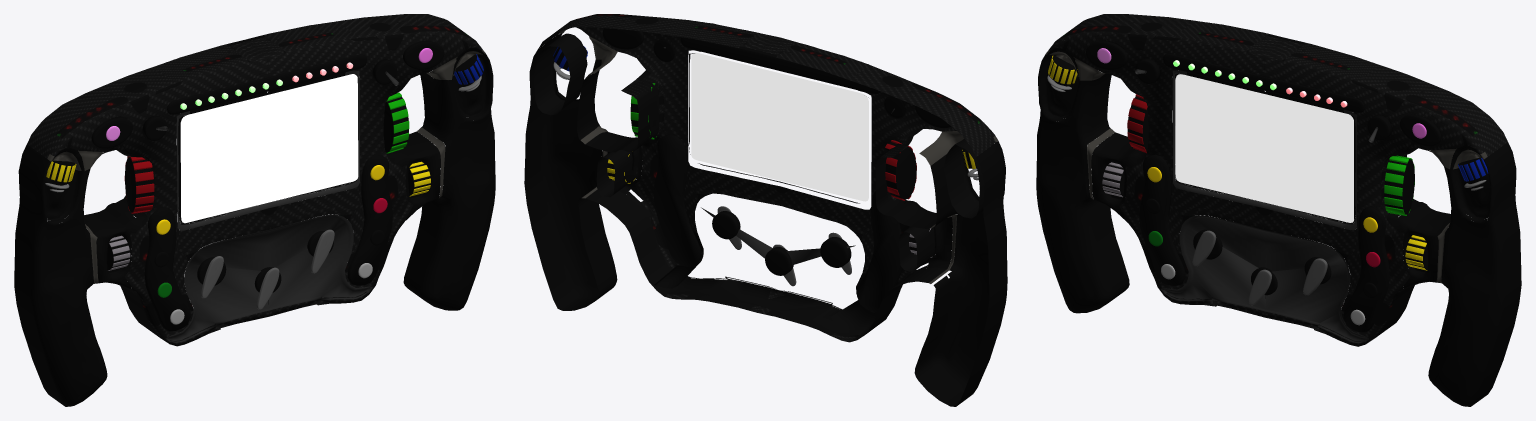
File: steer.glb
3 renders of one model, left to right at view 1: azimuth 30°, elevation 25°; view 2: azimuth 150°, elevation 25°; view 3: azimuth 330°, elevation 25°, orthographic.
Visible parts, largest first — view 1: Plane, Plane.006, Plane.004, Plane.003, Cube, Cylinder.007, Cylinder.012, Cylinder.013, Cylinder.019, Cylinder.005, Cylinder.006, Cylinder.018 (+6 smaller); view 2: Plane, Plane.006, Plane.004, Plane.003, Cube, Cylinder.007, Cylinder.001, Cylinder.019, Cylinder.003, Cylinder.002; view 3: Plane, Plane.006, Plane.003, Plane.004, Cube, Cylinder.012, Cylinder.007, Cylinder.019, Cylinder.013, Cylinder.006, Cylinder.005, Cylinder.004 (+6 smaller).
Boxes of the visible parts, x1,y1,x2,y2 form: Plane: (14,14,495,406); Plane.006: (180,74,358,223); Plane.004: (347,155,392,285); Plane.003: (144,207,190,331); Cube: (167,54,366,114); Cylinder.007: (124,156,154,213); Cylinder.012: (383,92,409,153); Cylinder.013: (91,117,132,148); Cylinder.019: (403,41,444,69); Cylinder.005: (107,235,130,270); Cylinder.006: (406,161,430,196); Cylinder.018: (454,54,483,84); Plane: (524,14,1007,406); Plane.006: (691,52,868,201); Plane.004: (653,134,700,266); Plane.003: (857,191,902,311); Cube: (680,37,880,94); Cylinder.007: (883,140,916,200); Cylinder.001: (820,237,851,267); Cylinder.019: (602,28,643,49); Cylinder.003: (712,211,740,239); Cylinder.002: (765,247,793,275); Plane: (1036,14,1521,406); Plane.006: (1175,74,1353,222); Plane.003: (1139,154,1185,285); Plane.004: (1343,207,1389,332); Cube: (1163,54,1364,112); Cylinder.012: (1384,155,1414,215); Cylinder.007: (1127,94,1148,153); Cylinder.019: (1400,114,1441,146); Cylinder.013: (1086,41,1127,70); Cylinder.006: (1405,235,1427,270); Cylinder.005: (1102,162,1126,197); Cylinder.004: (1048,55,1077,84).
Bounding box in the file's own units: 4.64 × 2.94 × 0.6251.
52 materials, 2 textured.
